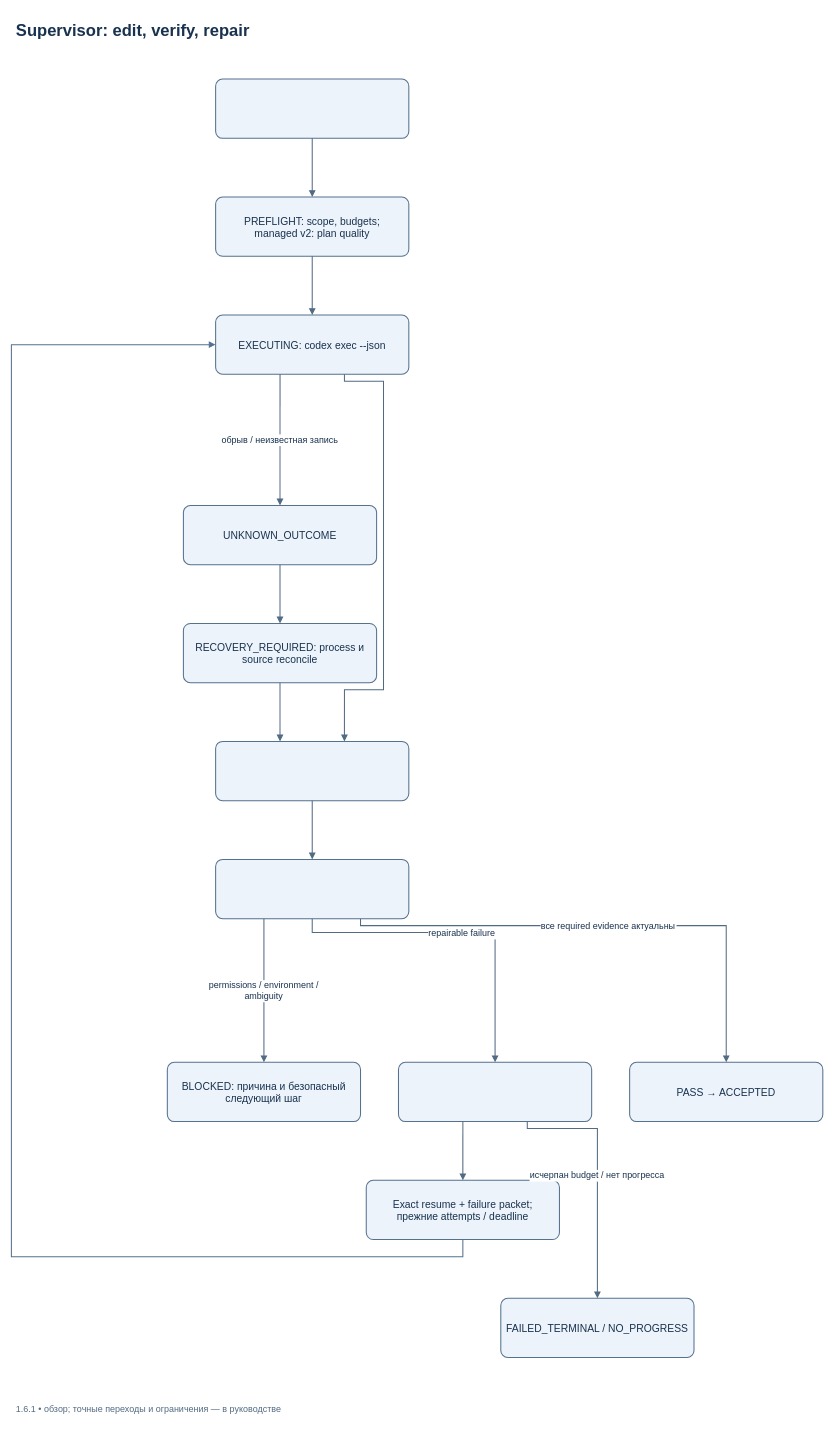
Some shapes in this 834 by 1431 pixel diagram are drawn without their labels. The centre of each missing label's shape, as x and y in pixels:
"FAILED_REPAIRABLE → REPAIRING" goes at [495,1091].
"FREEZING: source и toolchain" goes at [312,771].
"NEW: contract и baseline" goes at [312,108].
"VERIFYING: runner / core gate; v2: coverage + fresh review" goes at [312,889].
